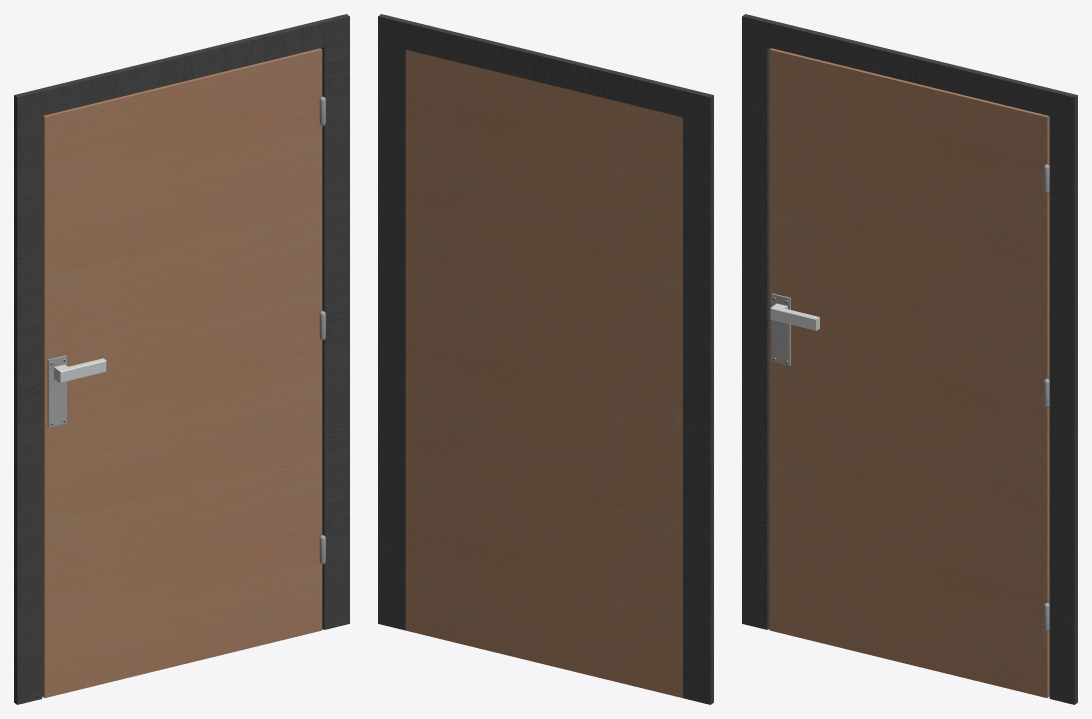
File: 3D004_Office_Door.FBX
The picture shows the model from 3 angles, left to right: view 1: azimuth 30°, elevation 25°; view 2: azimuth 150°, elevation 25°; view 3: azimuth 330°, elevation 25°; orthographic projection.
Parts seen in each view (by area): view 1: 3D004_Office_Door1, 3D004_Office_DoorFrame, 3D004_Office_DoorOpen; view 2: 3D004_Office_Door1, 3D004_Office_DoorFrame; view 3: 3D004_Office_Door1, 3D004_Office_DoorFrame, 3D004_Office_DoorOpen.
Part boxes in pixels (x1,y1,x2,y2): 3D004_Office_Door1: [42, 48, 325, 697]; 3D004_Office_DoorFrame: [14, 14, 349, 704]; 3D004_Office_DoorOpen: [54, 358, 106, 382]; 3D004_Office_Door1: [405, 50, 682, 697]; 3D004_Office_DoorFrame: [378, 14, 713, 704]; 3D004_Office_Door1: [769, 48, 1049, 697]; 3D004_Office_DoorFrame: [742, 14, 1077, 704]; 3D004_Office_DoorOpen: [770, 303, 819, 330].
Bounding box in the file's own units: 120 × 209 × 6.65.
